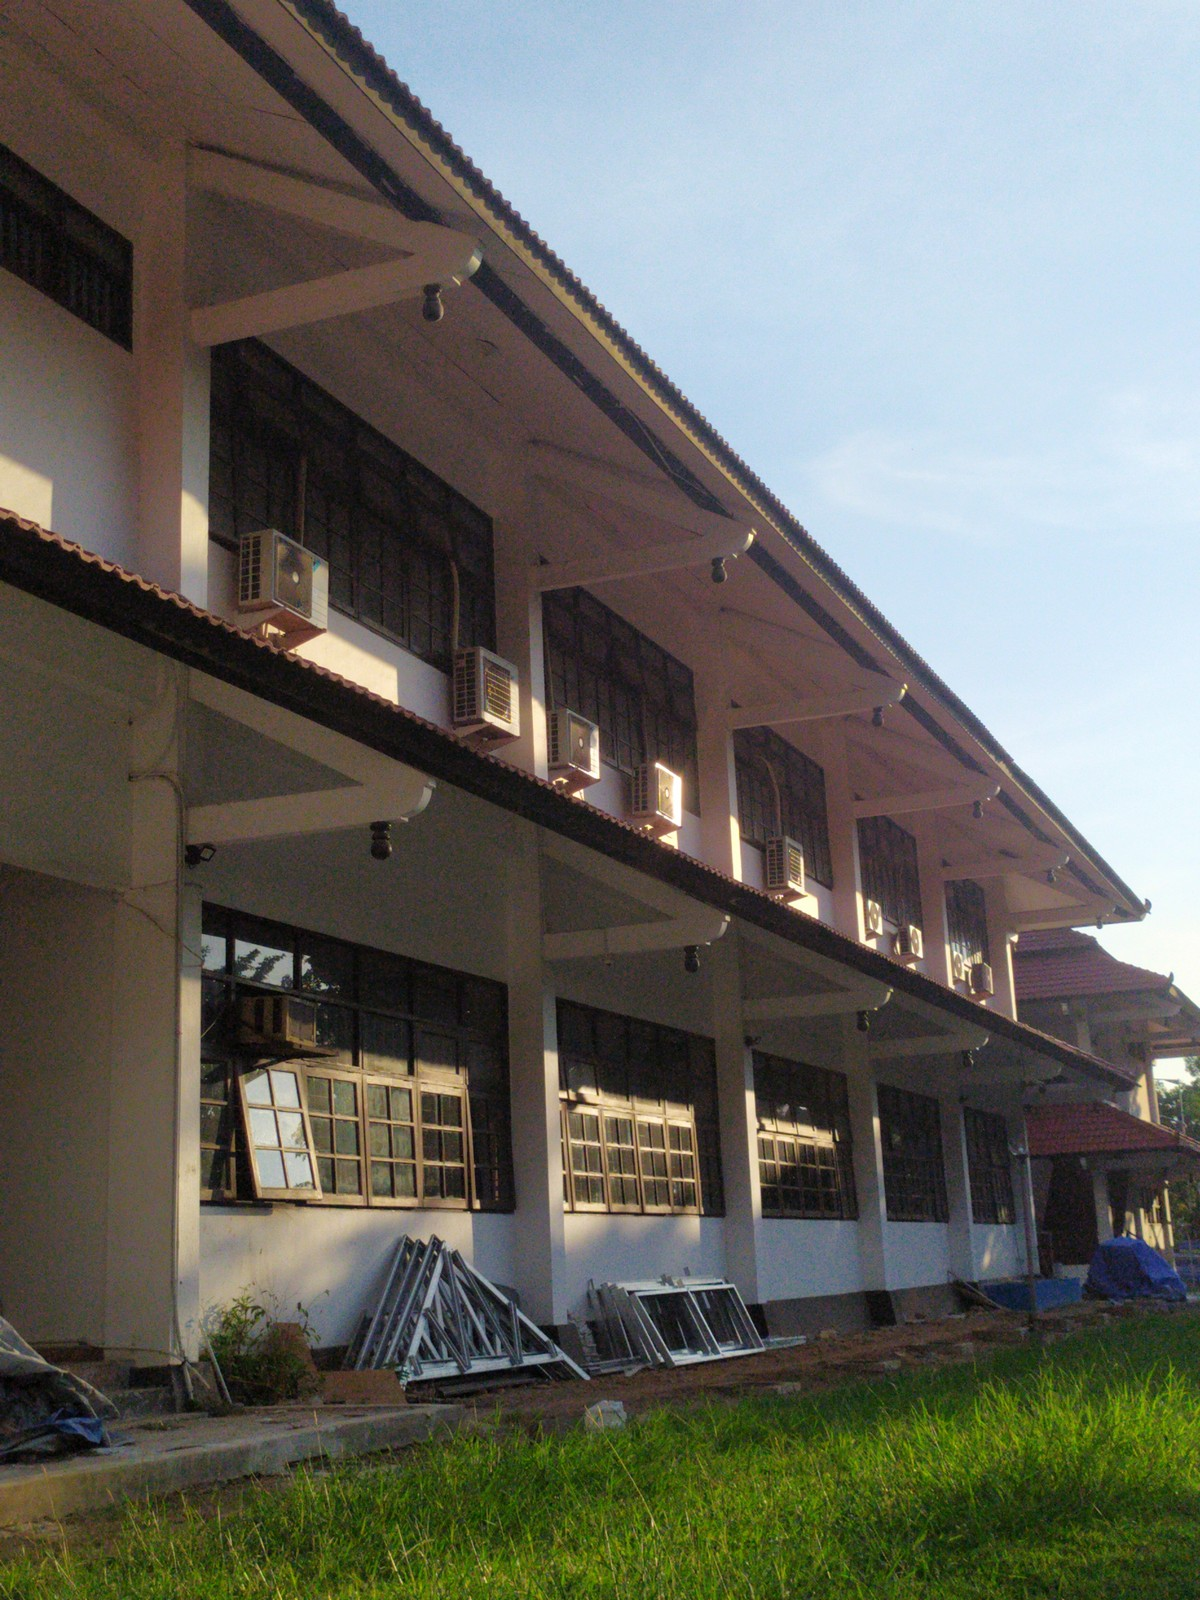concrete beam: (182, 265, 400, 357), (166, 789, 398, 857), (518, 532, 698, 609), (529, 920, 692, 968), (717, 693, 870, 734), (730, 986, 834, 1026)
concrete column: (95, 649, 200, 1380), (124, 115, 218, 609), (498, 815, 584, 1335), (703, 939, 773, 1306), (487, 420, 553, 781), (837, 1012, 903, 1319), (686, 590, 749, 881), (816, 706, 875, 951)
